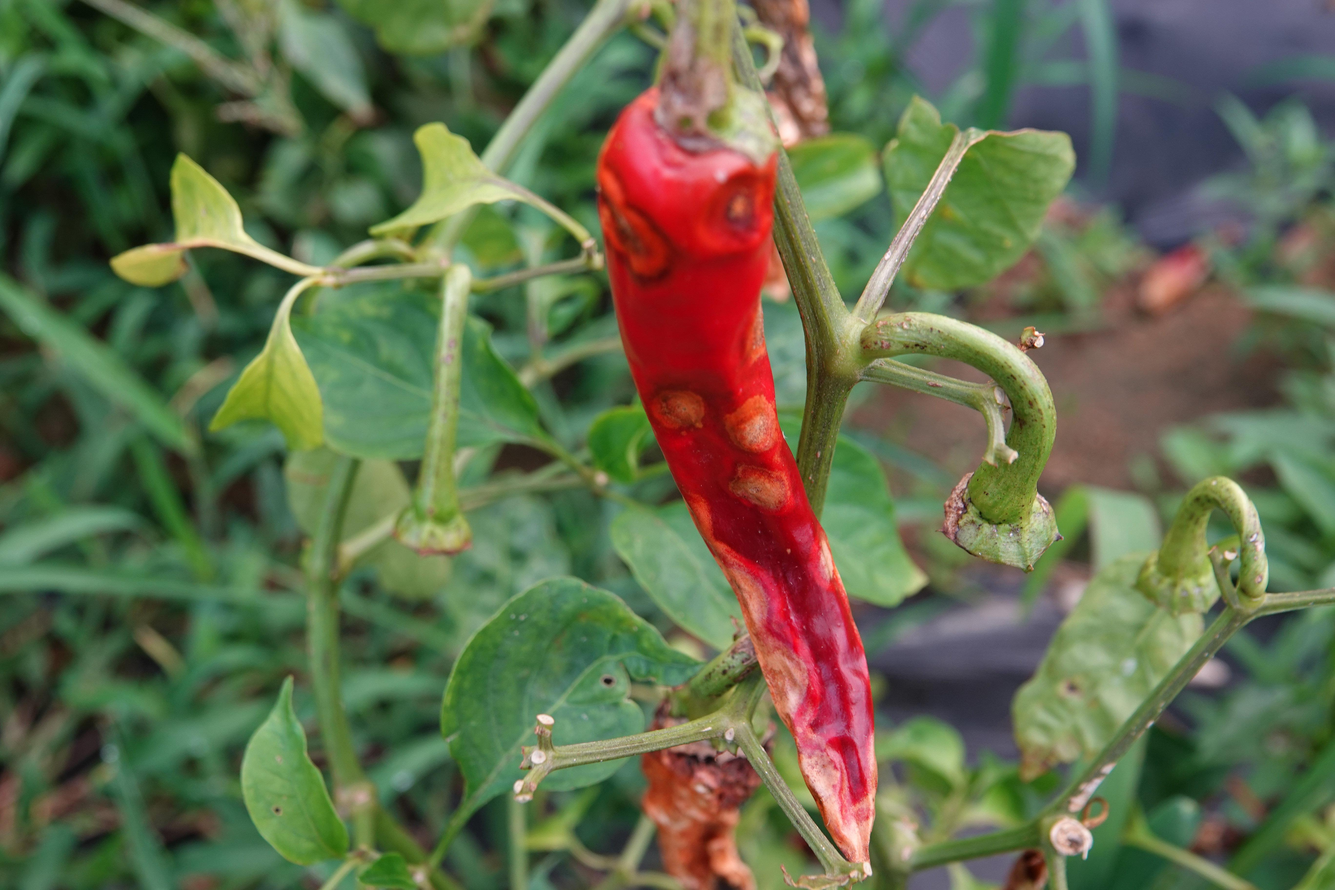Busuk Buah Antraknosa: (590, 78, 881, 878)
